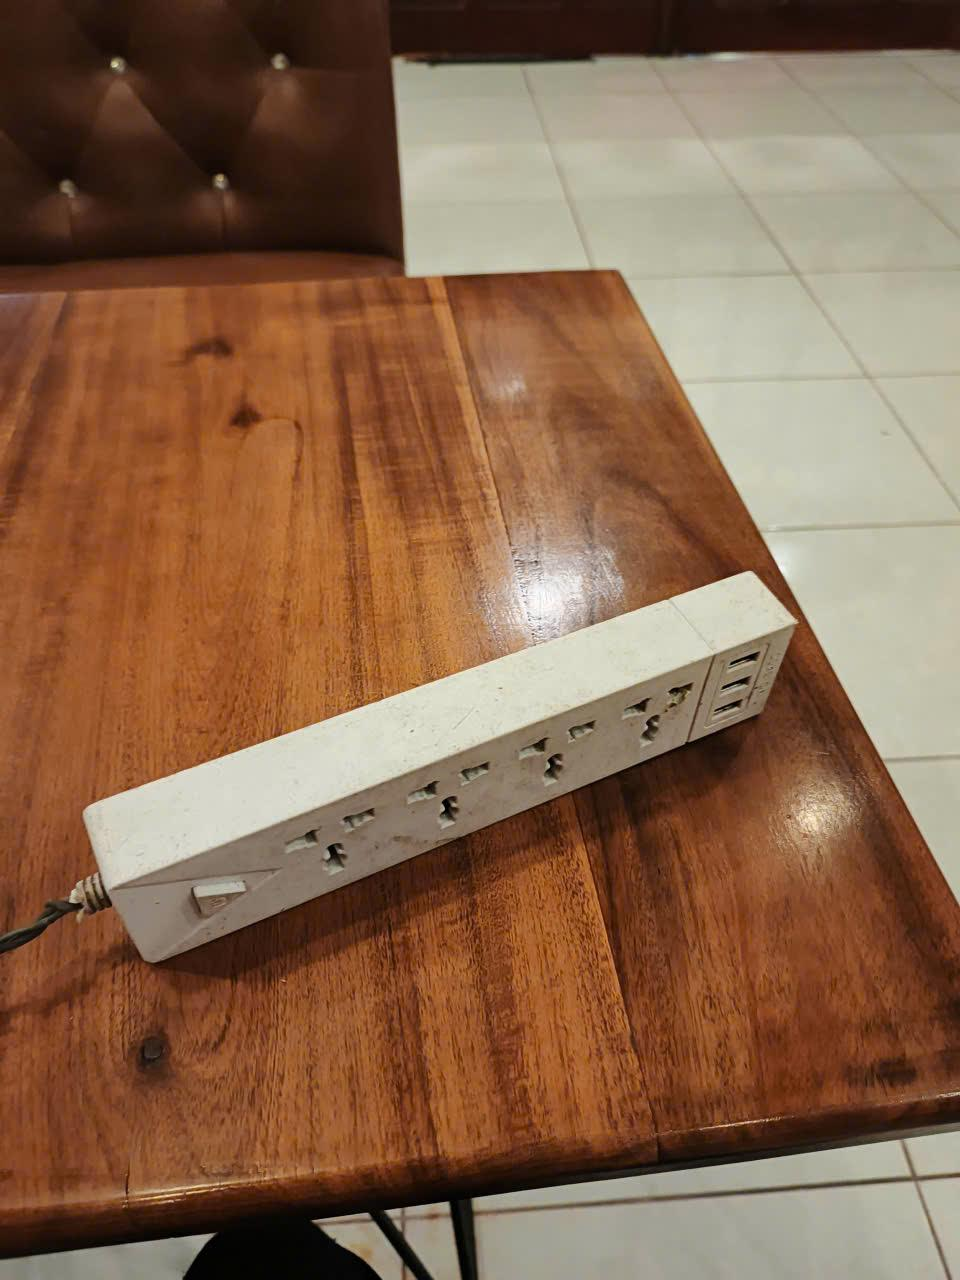Con lai: (78, 560, 800, 969)
